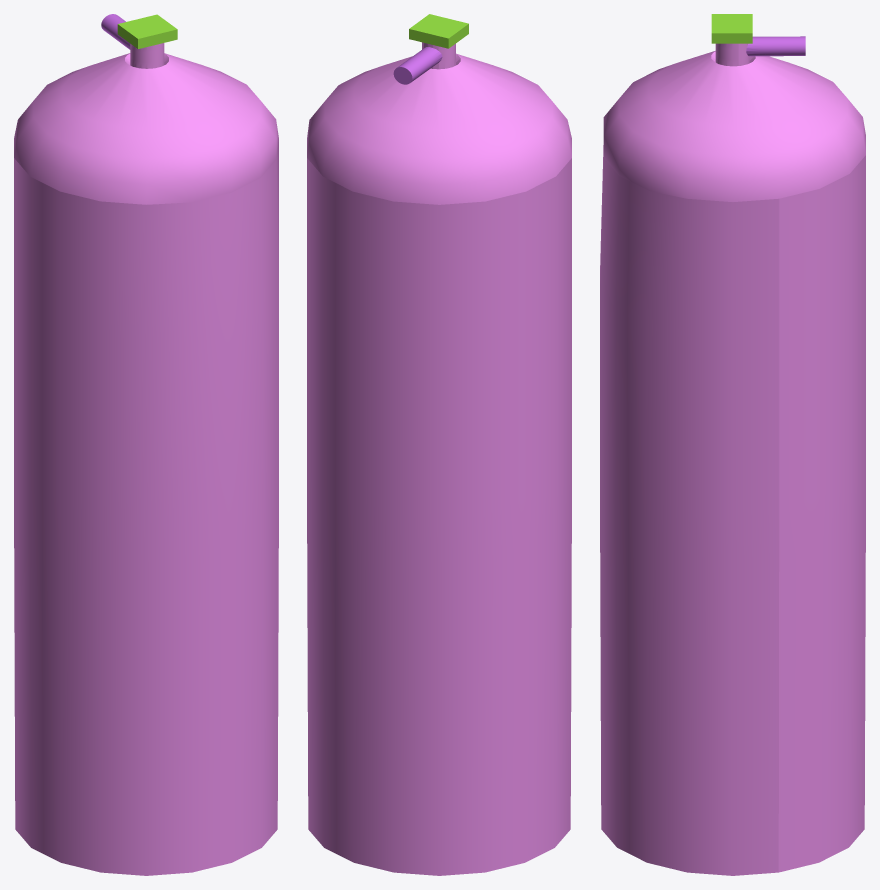
The picture shows the model from 3 angles, left to right: view 1: azimuth 30°, elevation 25°; view 2: azimuth 150°, elevation 25°; view 3: azimuth 270°, elevation 25°; orthographic projection.
Parts seen in each view (by area): view 1: split_parent_0, Sphere001__0.005; view 2: split_parent_0, Sphere001__0.005, Sphere001__0.011; view 3: split_parent_0, Sphere001__0.005, Sphere001__0.011.
Part boxes in pixels (left/top/right/bottom): split_parent_0: left=14, top=43, right=278, bottom=875; Sphere001__0.005: left=117, top=14, right=177, bottom=48; split_parent_0: left=307, top=42, right=571, bottom=875; Sphere001__0.005: left=409, top=14, right=468, bottom=48; Sphere001__0.011: left=393, top=47, right=442, bottom=84; split_parent_0: left=600, top=43, right=865, bottom=875; Sphere001__0.005: left=711, top=14, right=752, bottom=43; Sphere001__0.011: left=746, top=36, right=805, bottom=56.
Size of the model in its own units: 0.3074 by 1 by 0.3028.
